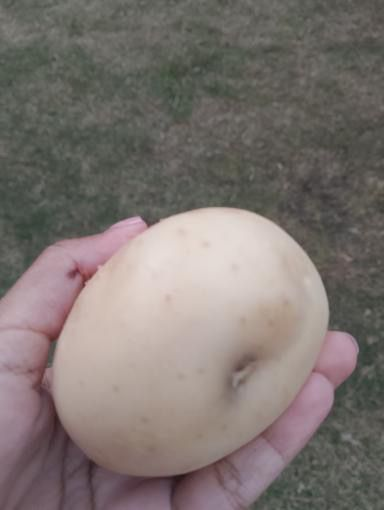potato: (51, 188, 334, 491)
